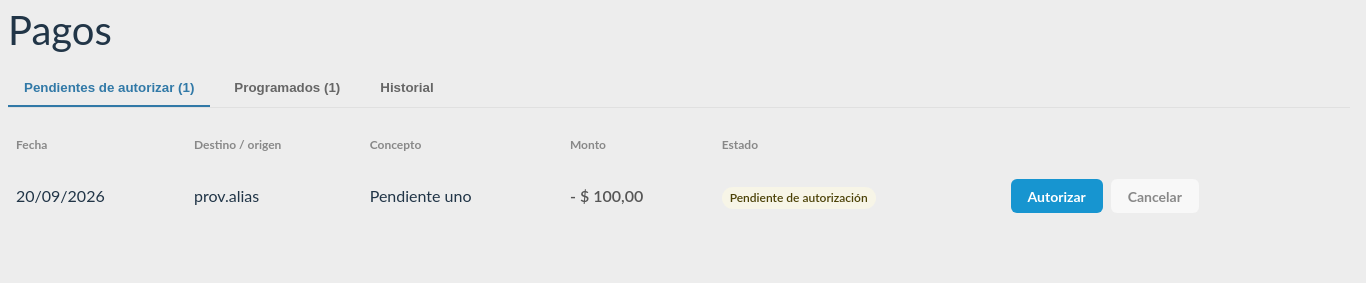
Test: Payments page › shows the error of a failed cancel
The image size is (1366, 283).
Expected: the text "Pendiente uno" is shown, [362,166,562,226]
Click the button "Cancelar".
click(1155, 196)  # box [1111,179,1199,213]
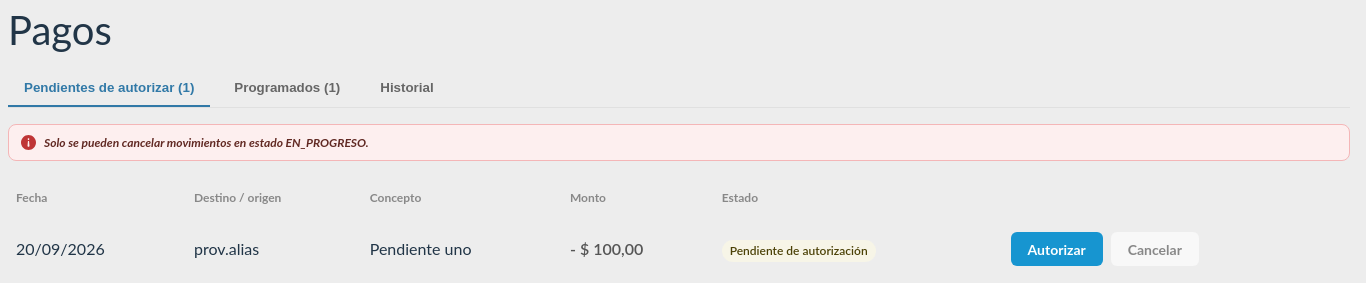
Result: the text "Solo se pueden cancelar movimientos en estado EN_PROGRESO." is shown at [44,135,369,150]
